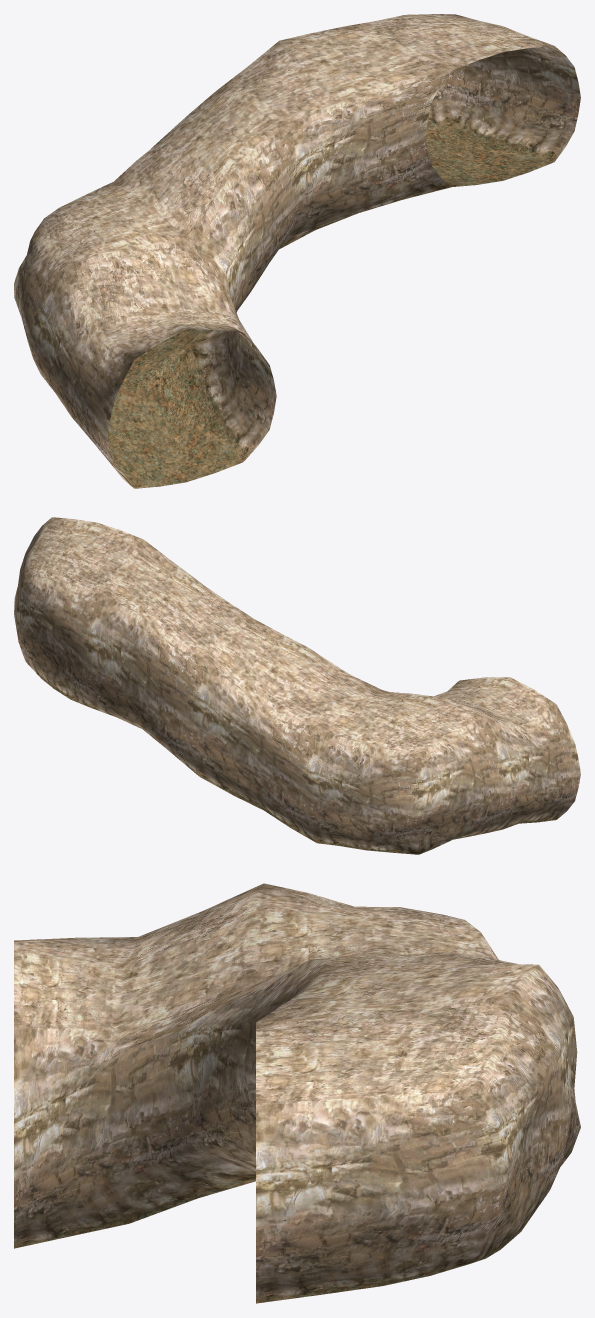
The model's file is thm_all_cave_s03_mirror_r24_mesh_r24.fbx.
3 renders of one model, top to bottom at view 1: azimuth 30°, elevation 25°; view 2: azimuth 150°, elevation 25°; view 3: azimuth 270°, elevation 25°, orthographic. The views are drawn at different scales.
Parts seen in each view (by area): view 1: mesh_node; view 2: mesh_node; view 3: mesh_node.
Part boxes in pixels (<box>): mesh_node: <box>14,14,580,488</box>; mesh_node: <box>14,517,580,854</box>; mesh_node: <box>14,883,580,1303</box>.
Size of the model in its own units: 35.17 by 17.46 by 18.73.
